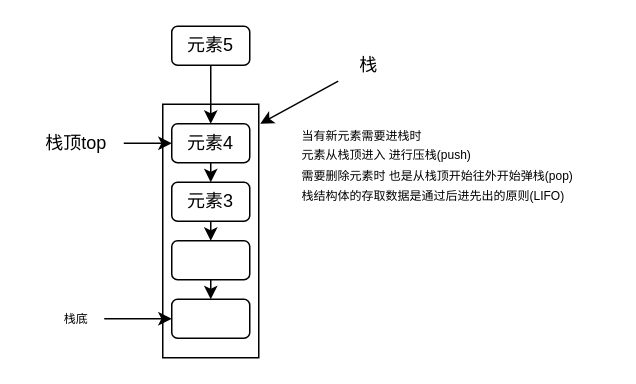
This 636x384 diagram has some shape labels left out. Each missing label, with the centre of its shape:
元素1: point 210,318
元素2: point 210,259
